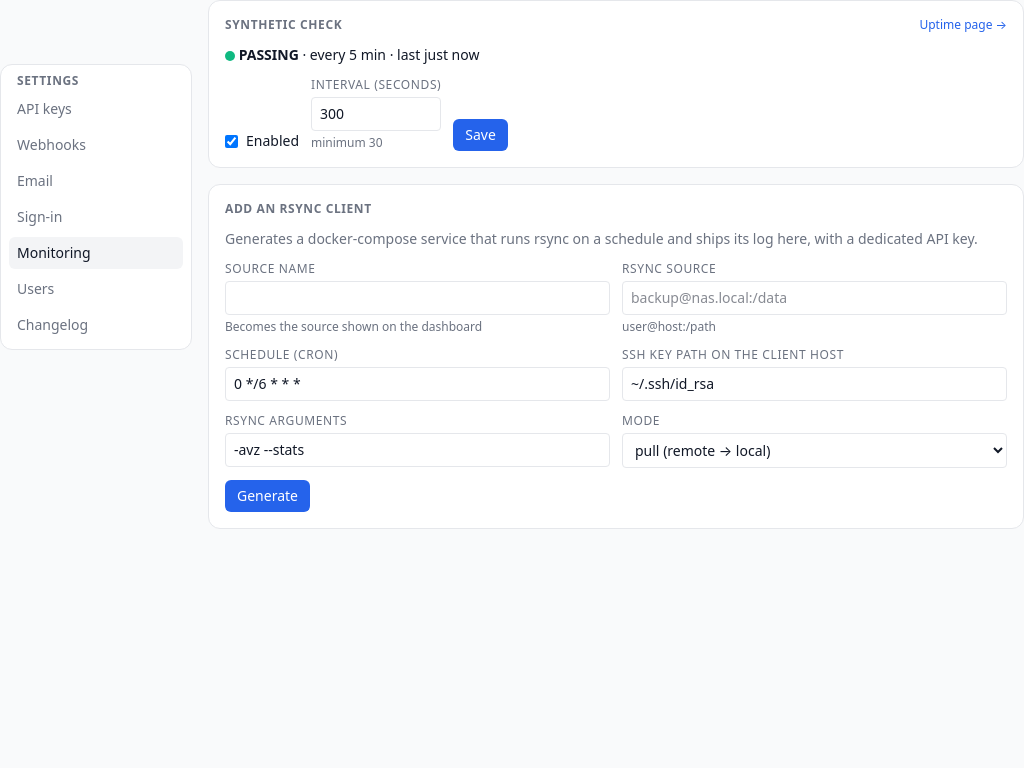
Test: Monitoring (AC-016) › saves synthetic settings and runs the wizard
The image size is (1024, 768).
Replace the text in the number field labelled "Interval (seconds)" with "45" at coordinates (376, 114), box [311, 97, 441, 131]
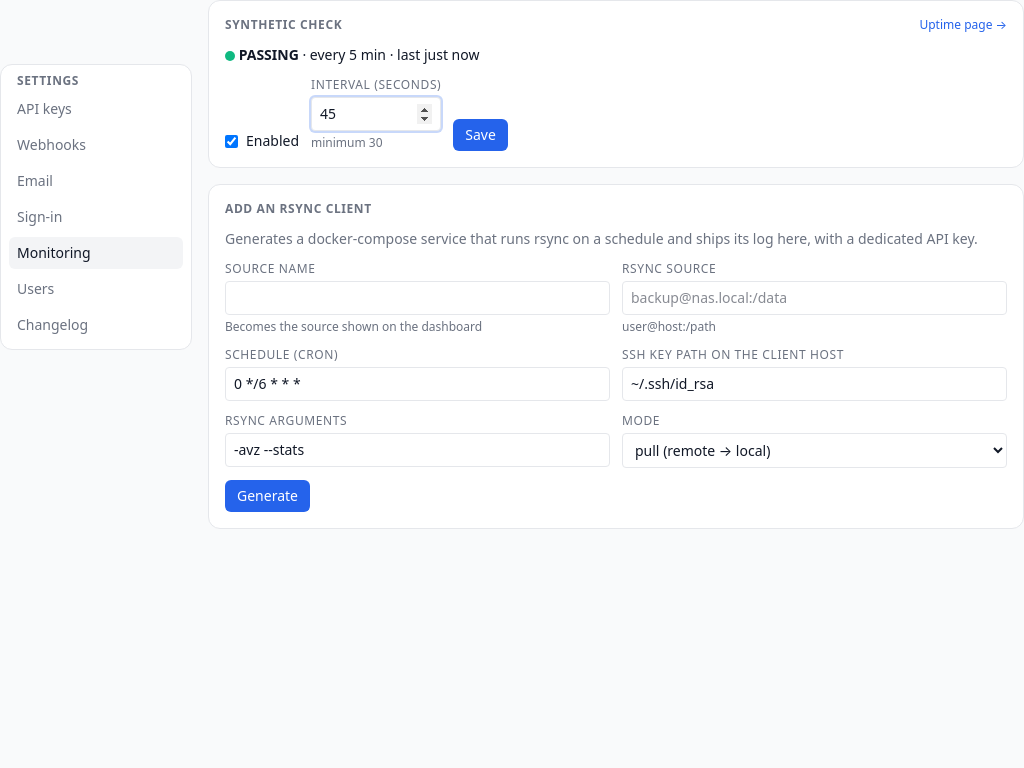
Click the button "Save" at coordinates (481, 135), box [453, 119, 508, 151]
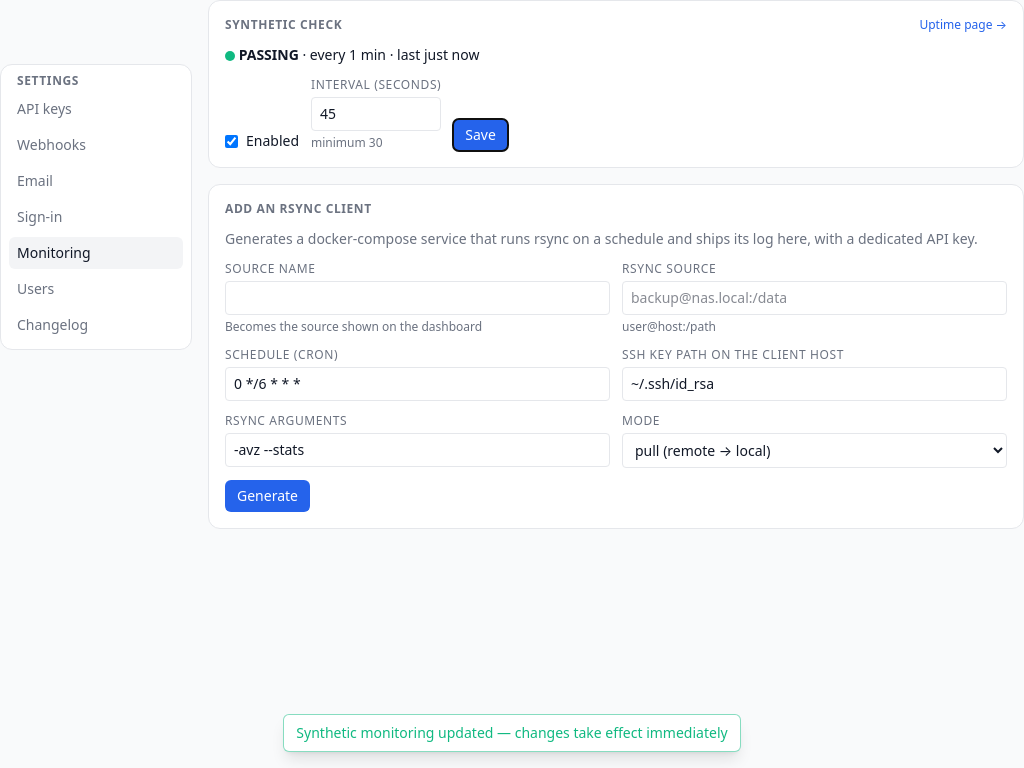
Expected: the message with test id "toast" shows "take effect immediately", [296, 723, 728, 742]
Type "NAS Backup" into the field labelled "Source name" at coordinates (418, 298), box [225, 281, 610, 315]
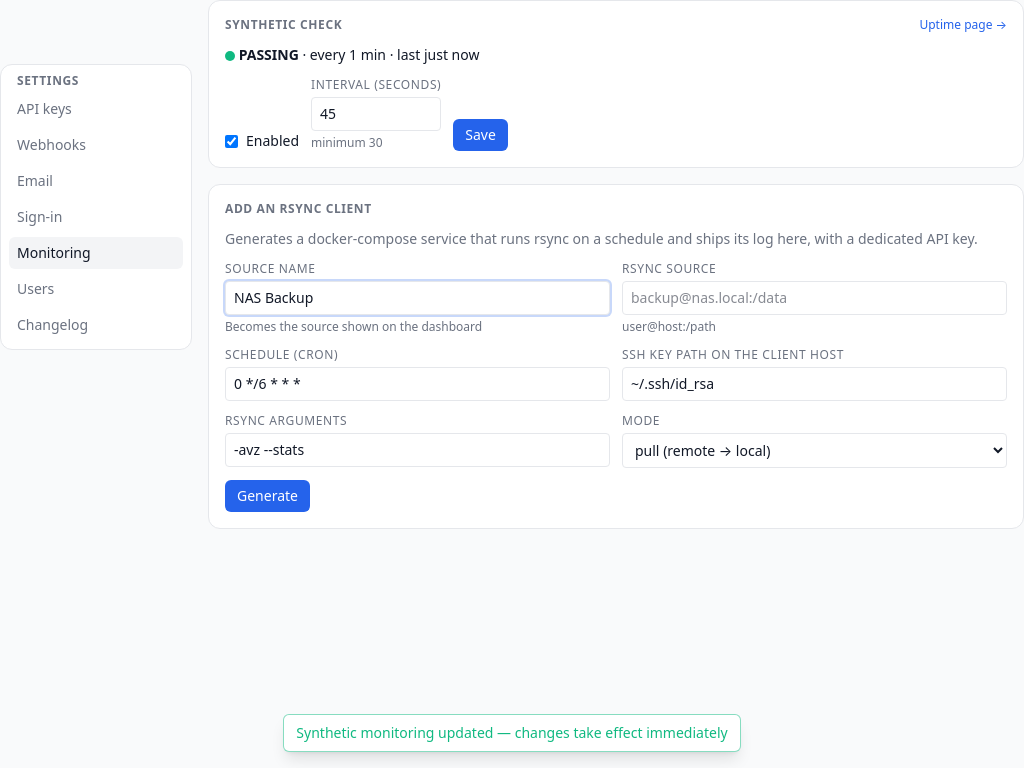
Type "bob@nas:/data" into the field labelled "Rsync source" at coordinates (814, 298), box [622, 281, 1007, 315]
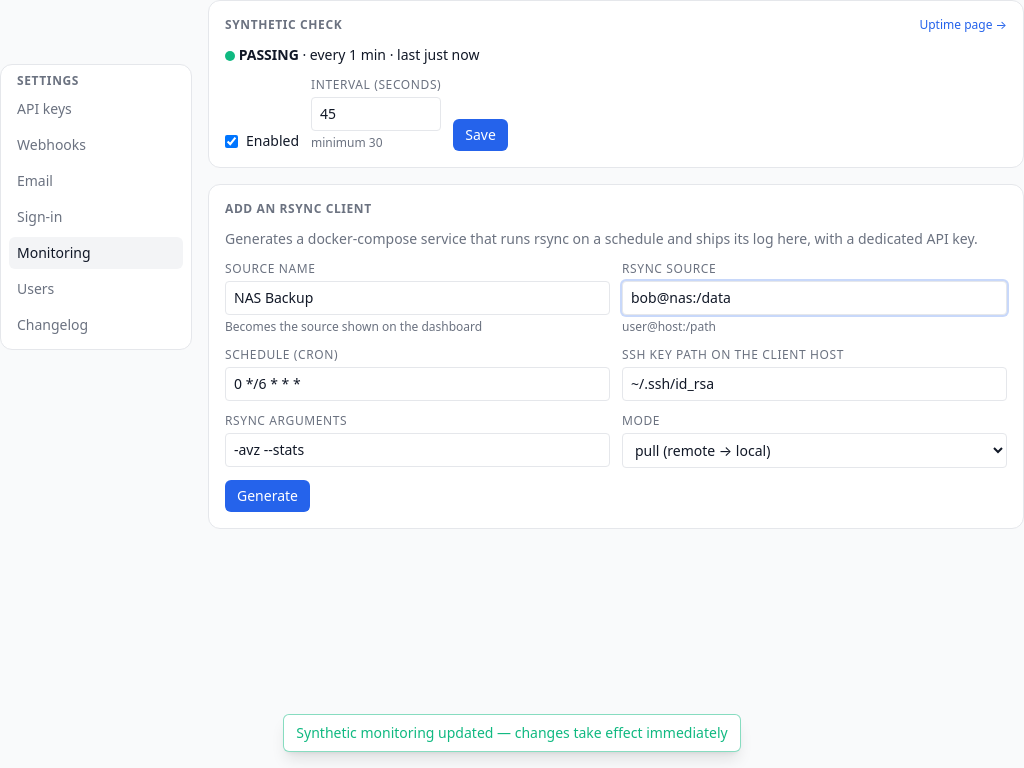
Click the button "Generate" at coordinates (268, 496), box [225, 480, 310, 512]
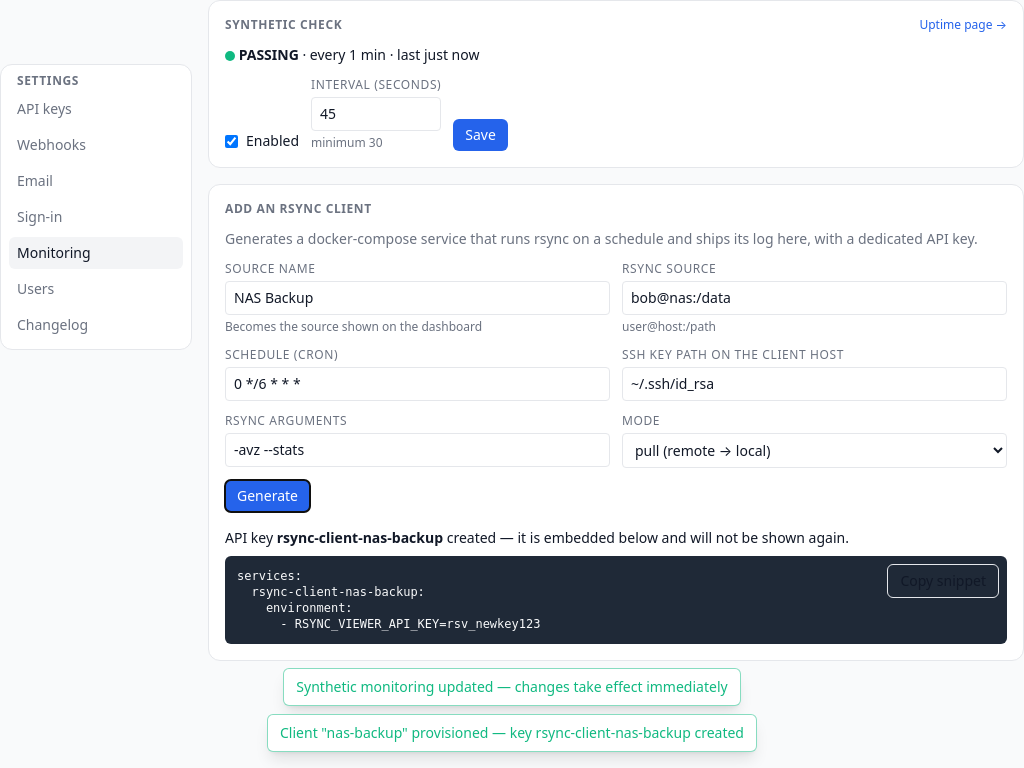
Expected: the element with test id "wizard-result" shows "rsync-client-nas-backup", [277, 528, 443, 547]
Expected: the element with test id "wizard-result" shows "RSYNC_VIEWER_API_KEY=rsv_newkey123", [237, 569, 540, 631]
